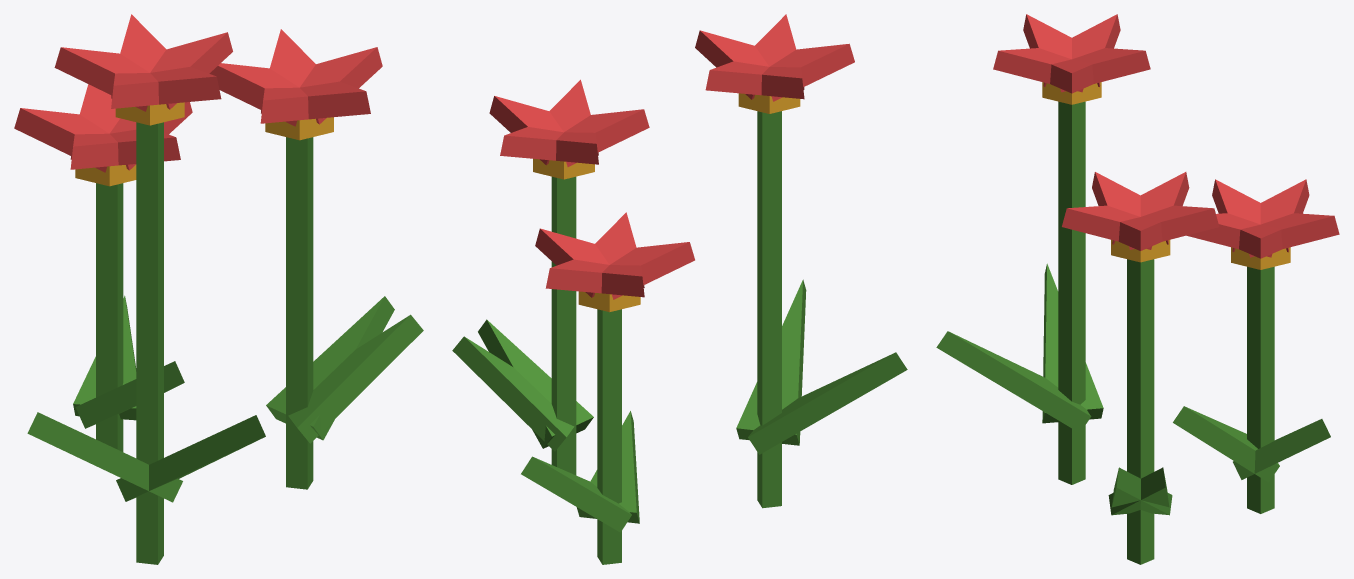
File: flower_redB.glb
3 views of the same model, side by side, from view 1: azimuth 30°, elevation 25°; view 2: azimuth 150°, elevation 25°; view 3: azimuth 270°, elevation 25° (orthographic). The views are drawn at different scales.
Visible parts, largest first — view 1: flower_redB; view 2: flower_redB; view 3: flower_redB.
Part boxes in pixels (x1=…): flower_redB: x1=14, y1=14, x2=423, y2=564; flower_redB: x1=452, y1=14, x2=907, y2=564; flower_redB: x1=936, y1=14, x2=1339, y2=564.
Bounding box in the file's own units: 0.2544 × 0.282 × 0.2349.
1 material, 1 textured.
